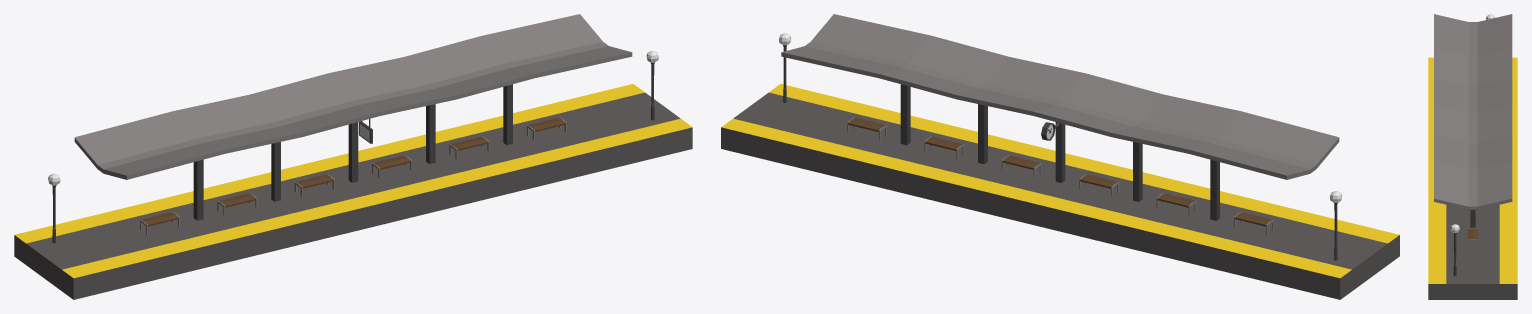
File: train-station-platform.fbx
3 renders of one model, left to right at view 1: azimuth 30°, elevation 25°; view 2: azimuth 150°, elevation 25°; view 3: azimuth 270°, elevation 25°, orthographic. The views are drawn at different scales.
Visible parts, largest first — view 1: train-station-platform; view 2: train-station-platform; view 3: train-station-platform.
Boxes of the visible parts, x1=… form: train-station-platform: x1=14, y1=14, x2=692, y2=299; train-station-platform: x1=721, y1=14, x2=1399, y2=299; train-station-platform: x1=1428, y1=14, x2=1517, y2=299.
Bounding box in the file's own units: 30.04 × 5.1 × 5.
